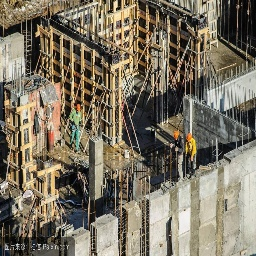helmet: (186, 133, 194, 142), (75, 103, 82, 113), (174, 131, 180, 140)
person: (172, 128, 187, 182), (70, 103, 84, 153), (186, 133, 198, 180)
